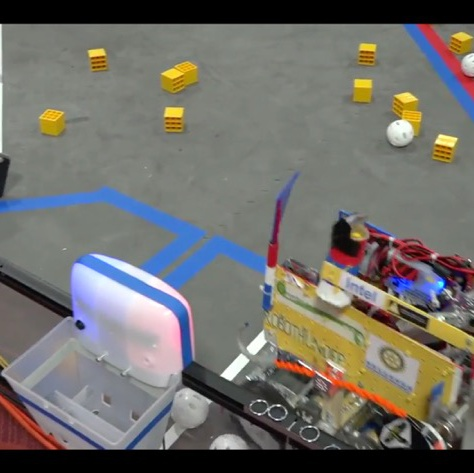robot: (236, 164, 474, 452)
